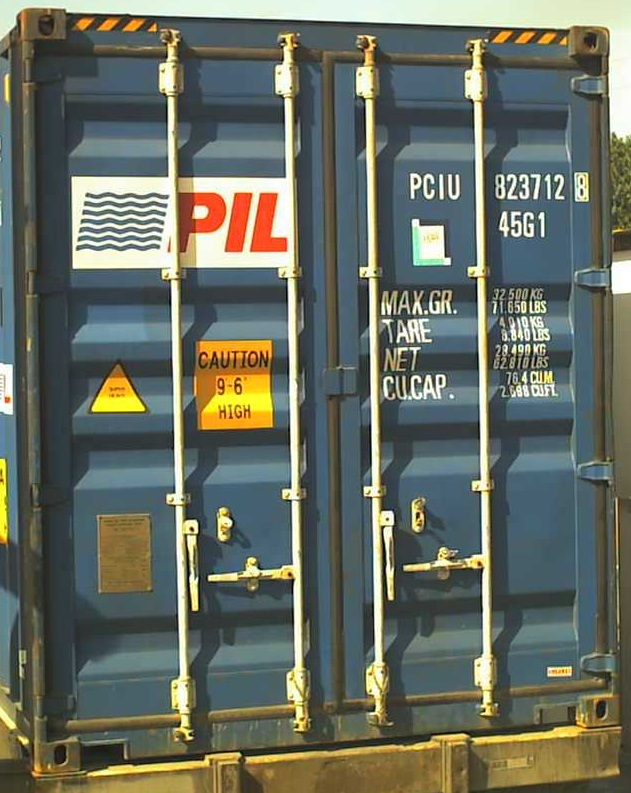container_door: (36, 17, 612, 780)
